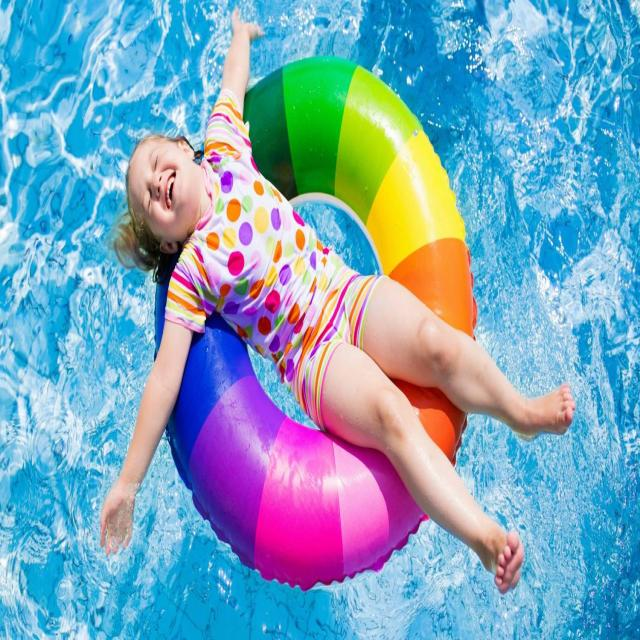child: (92, 12, 574, 592)
